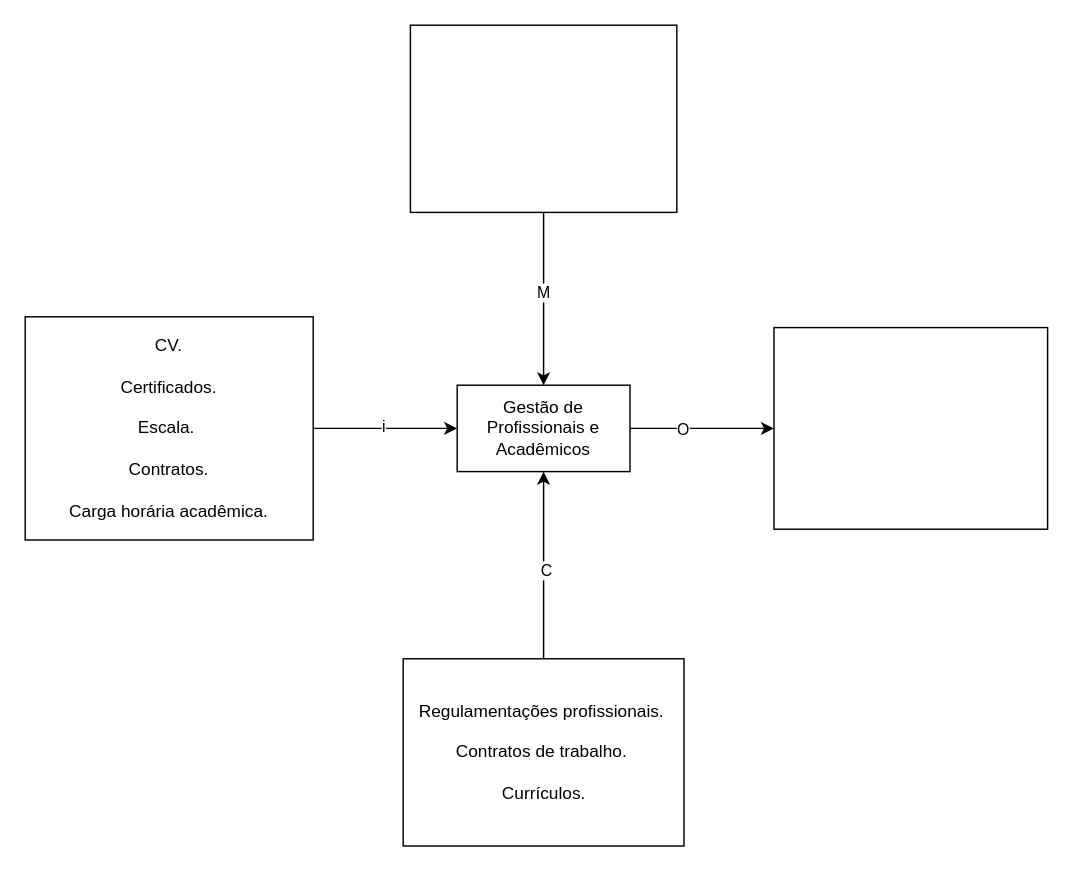
This 1073x871 diagram has some shape labels left out. Each missing label, with the box of its shape:
Escalas. Autorizações de prescrição. Relatórios de desempenho acadêmico.: (773, 326, 1048, 529)
RH. coordenação de residência. LMS (se aplicável).: (409, 24, 677, 212)
